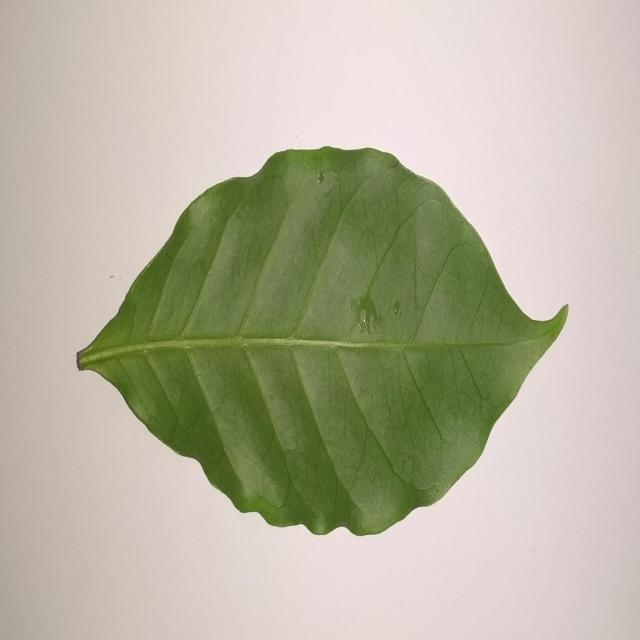Sanas: (74, 148, 570, 539)
